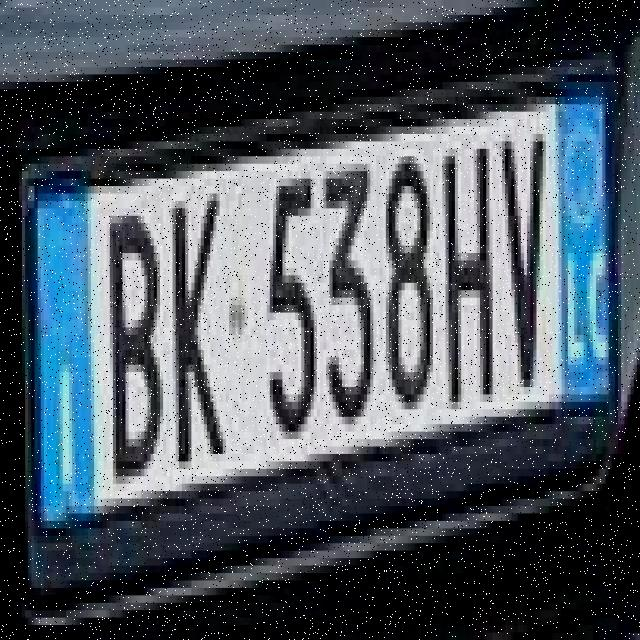licenseplate: (8, 54, 640, 558)
